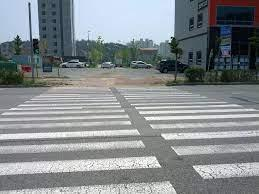crosswalk: (0, 86, 259, 194)
